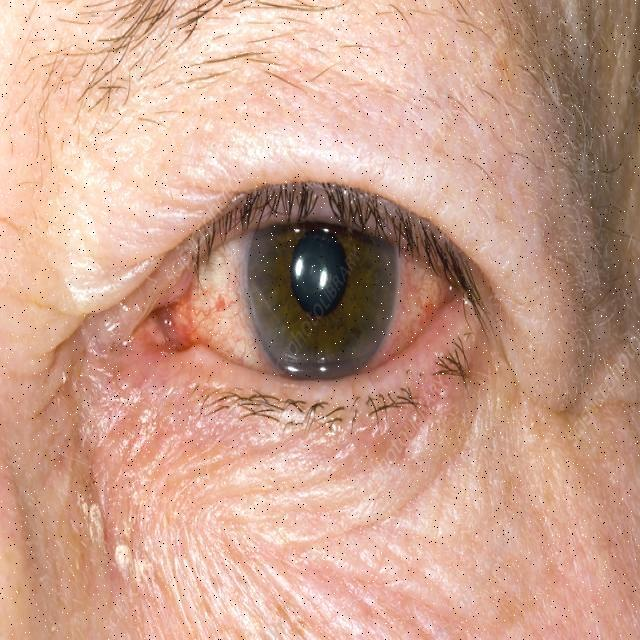Conjunctivitis: (136, 213, 485, 389)
